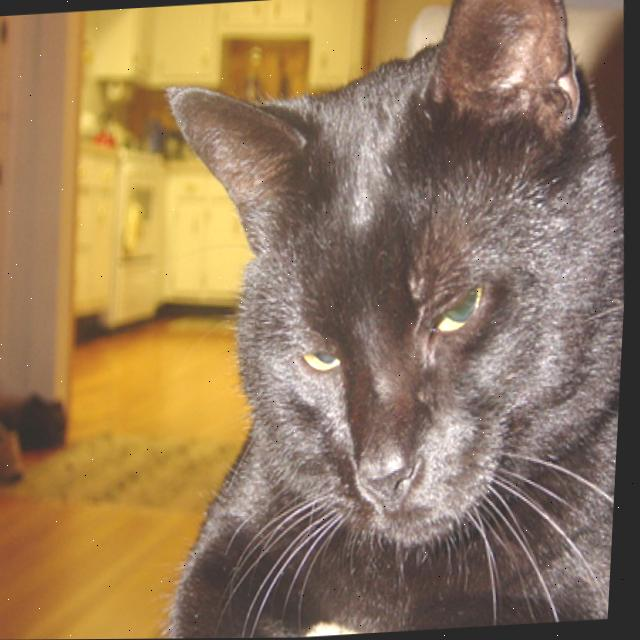Bombay: (135, 0, 640, 639)
